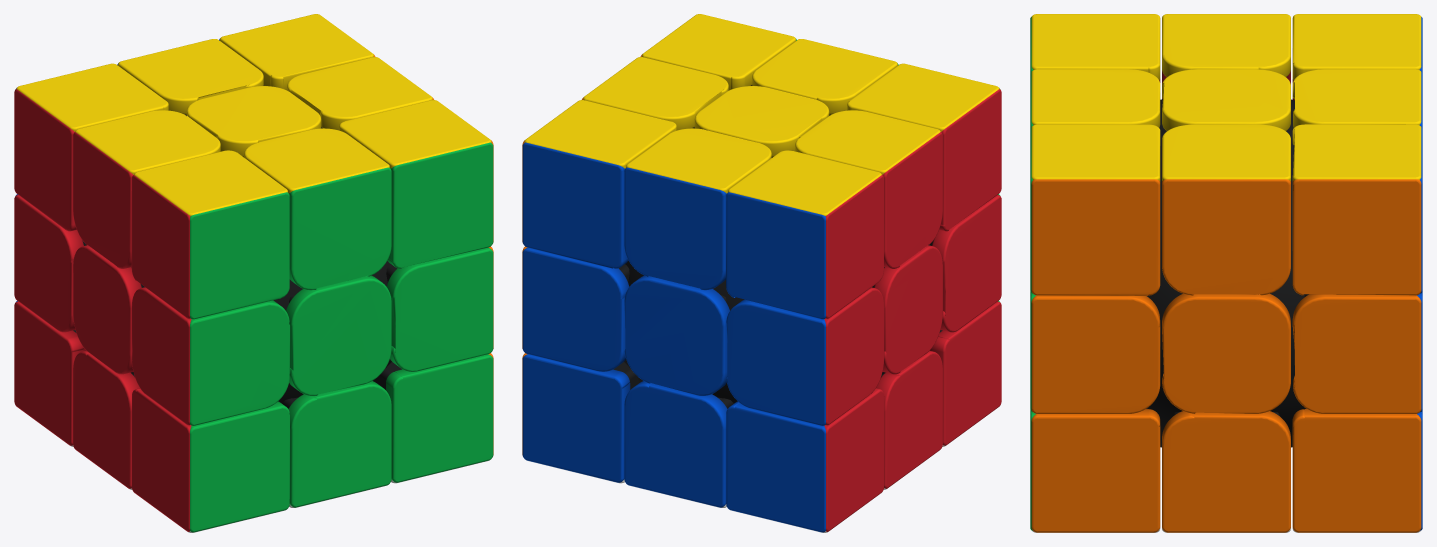
3 views of the same model, side by side, from view 1: azimuth 30°, elevation 25°; view 2: azimuth 150°, elevation 25°; view 3: azimuth 270°, elevation 25° (orthographic). The views are drawn at different scales.
Visible parts, largest first — view 1: piece_-1,1,1, piece_-1,-1,1, piece_1,1,1, piece_-1,0,1, piece_0,1,1, piece_-1,1,-1, piece_-1,1,0, piece_1,-1,1, piece_1,0,1, piece_0,-1,1, piece_0,0,1, piece_-1,-1,-1 (+8 smaller); view 2: piece_-1,1,-1, piece_-1,-1,-1, piece_1,1,-1, piece_-1,0,-1, piece_0,1,-1, piece_-1,1,1, piece_-1,1,0, piece_1,-1,-1, piece_0,-1,-1, piece_1,0,-1, piece_0,0,-1, piece_-1,-1,1 (+8 smaller); view 3: piece_1,1,1, piece_1,1,-1, piece_1,1,0, piece_1,-1,1, piece_1,-1,-1, piece_1,-1,0, piece_1,0,1, piece_1,0,-1, piece_1,0,0, piece_-1,1,0, piece_-1,1,-1, piece_-1,1,1 (+4 smaller).
Part boxes in pixels (x1,y1,x2,y2): piece_-1,1,1: (131,150,289,319); piece_-1,-1,1: (132,388,289,532); piece_1,1,1: (339,100,493,268); piece_-1,0,1: (132,287,289,425); piece_0,1,1: (244,128,391,290); piece_-1,1,-1: (14,63,168,231); piece_-1,1,0: (73,110,220,268); piece_1,-1,1: (376,353,493,483); piece_1,0,1: (386,246,493,371); piece_0,-1,1: (282,381,391,507); piece_0,0,1: (286,275,391,395); piece_-1,-1,-1: (14,300,85,446); piece_-1,1,-1: (726,150,883,319); piece_-1,-1,-1: (726,388,884,532); piece_1,1,-1: (522,100,676,268); piece_-1,0,-1: (726,287,884,425); piece_0,1,-1: (624,128,771,290); piece_-1,1,1: (847,63,1001,231); piece_-1,1,0: (795,110,942,268); piece_1,-1,-1: (522,353,639,483); piece_0,-1,-1: (624,381,733,507); piece_1,0,-1: (522,246,629,371); piece_0,0,-1: (624,275,729,395); piece_-1,-1,1: (930,300,1001,446); piece_1,1,1: (1030,124,1160,295); piece_1,1,-1: (1292,124,1422,295); piece_1,1,0: (1162,124,1290,295); piece_1,-1,1: (1030,408,1160,532); piece_1,-1,-1: (1292,408,1422,532); piece_1,-1,0: (1162,411,1290,532); piece_1,0,1: (1030,292,1160,413); piece_1,0,-1: (1292,292,1422,413); piece_1,0,0: (1162,293,1290,413); piece_-1,1,0: (1162,14,1290,99); piece_-1,1,-1: (1292,14,1422,100); piece_-1,1,1: (1030,14,1160,82).
Size of the model in its own units: 2 by 2 by 2.
